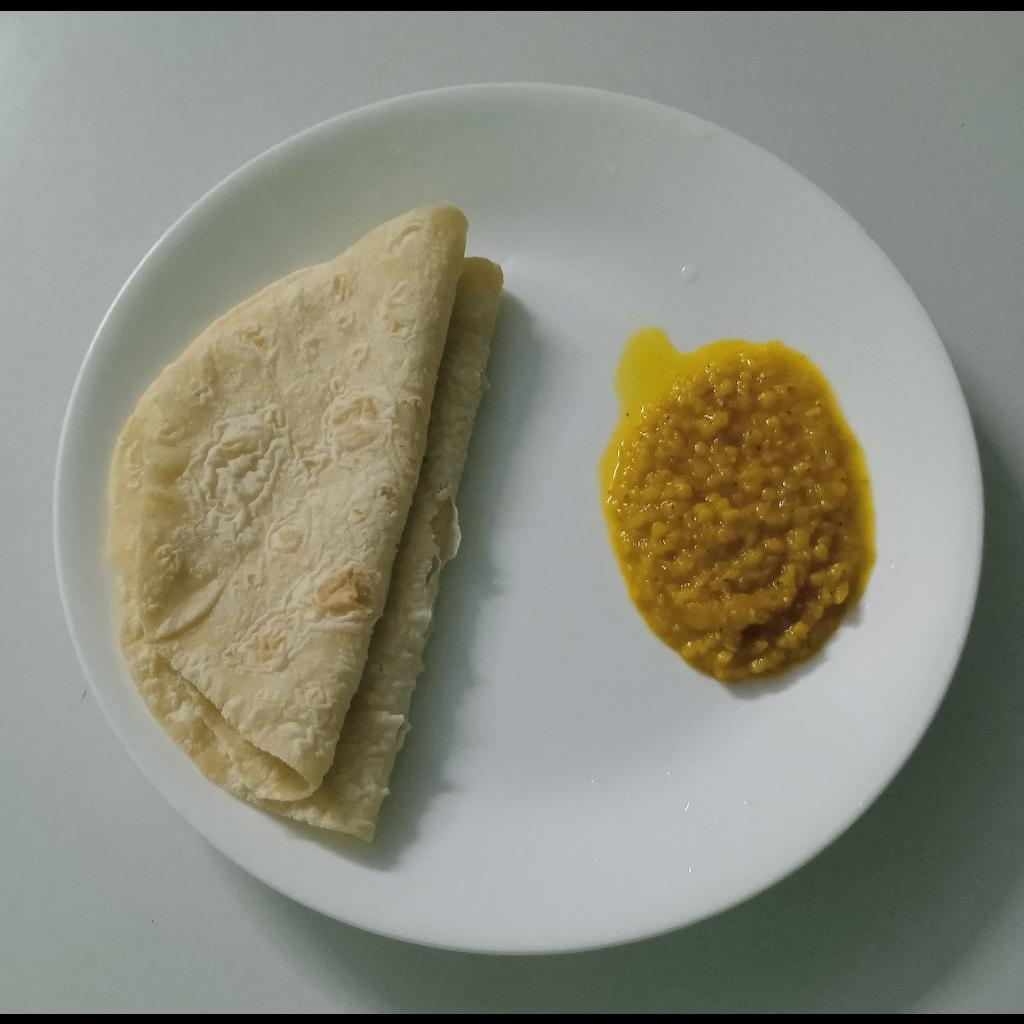daal: (604, 351, 871, 679)
ruti: (106, 204, 505, 843)
